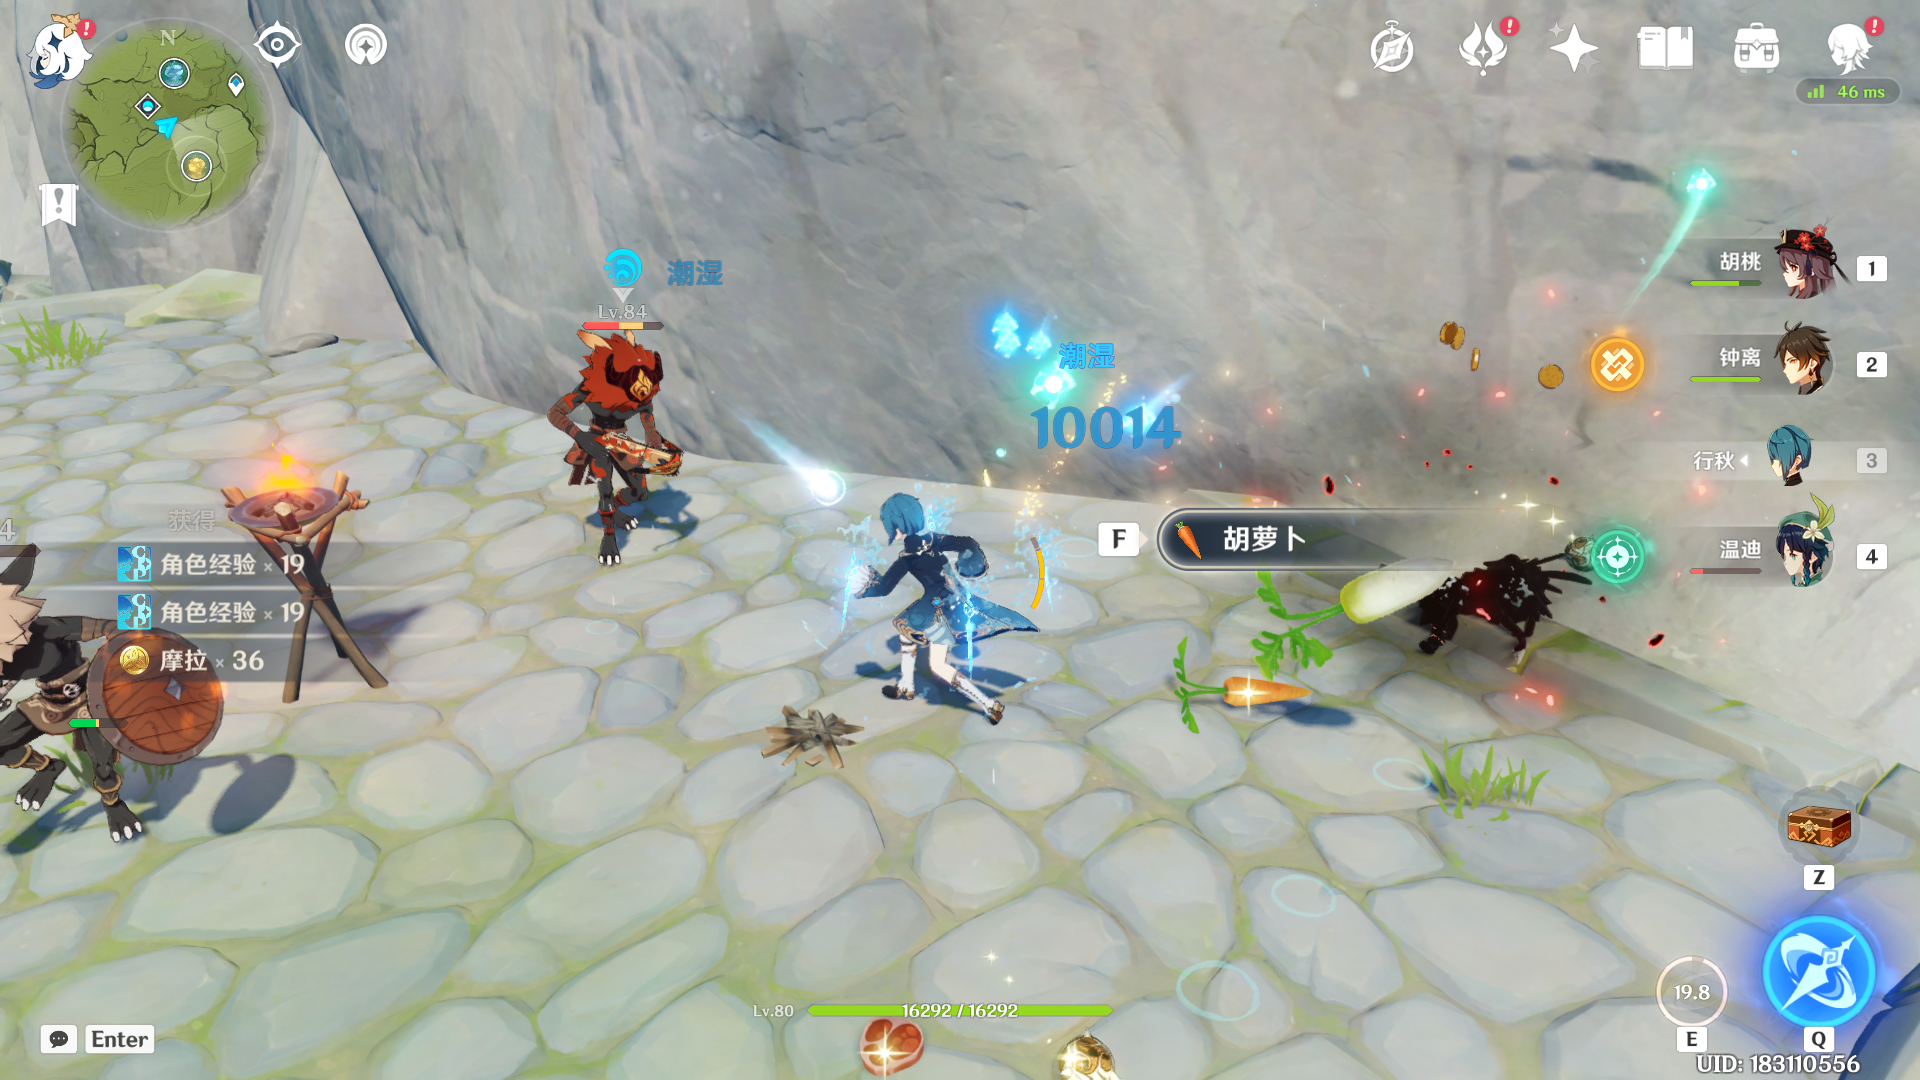character: (819, 469, 1040, 746)
hili: (1, 513, 237, 877), (520, 324, 709, 560)
